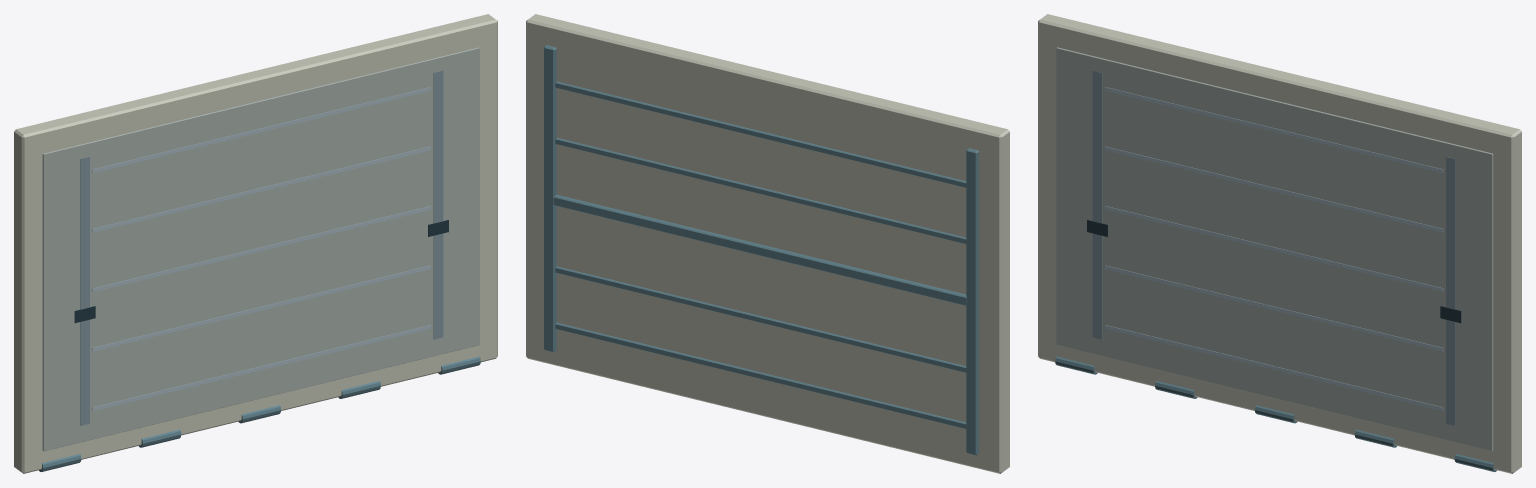
File: runway-hatch.glb
The picture shows the model from 3 angles, left to right: view 1: azimuth 30°, elevation 25°; view 2: azimuth 150°, elevation 25°; view 3: azimuth 330°, elevation 25°; orthographic projection.
Parts seen in each view (by area): view 1: runway-hatch; view 2: runway-hatch; view 3: runway-hatch.
Boxes of the visible parts, left/top/right/bottom form: runway-hatch: left=14, top=14, right=497, bottom=473; runway-hatch: left=526, top=14, right=1009, bottom=473; runway-hatch: left=1038, top=14, right=1521, bottom=473.
Bounding box in the file's own units: 6.2 × 4.25 × 0.315.
